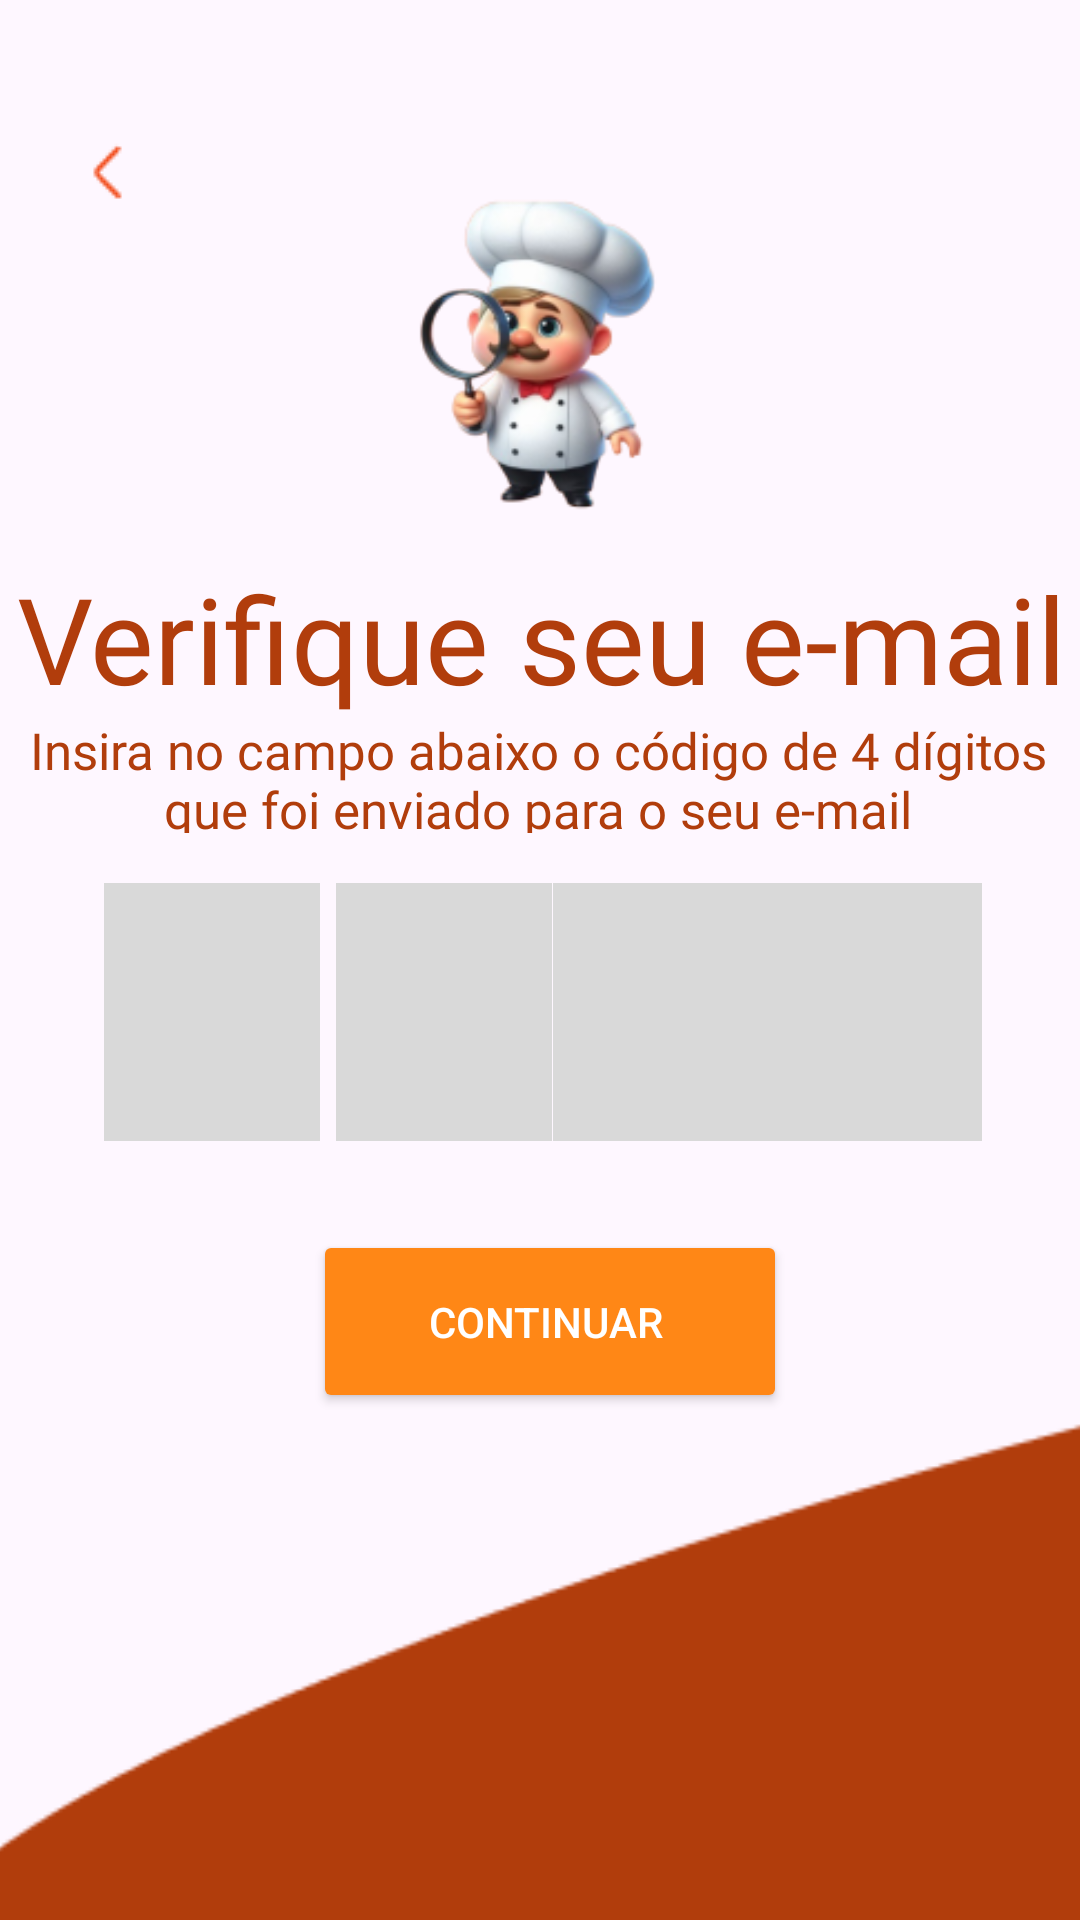

Locate icon controls on the screen. Image size 1080 x 1920, boxes as (x1, y1, x2, y2).
chefinho: (420, 202, 654, 509)
setadesaida: (93, 146, 122, 199)
